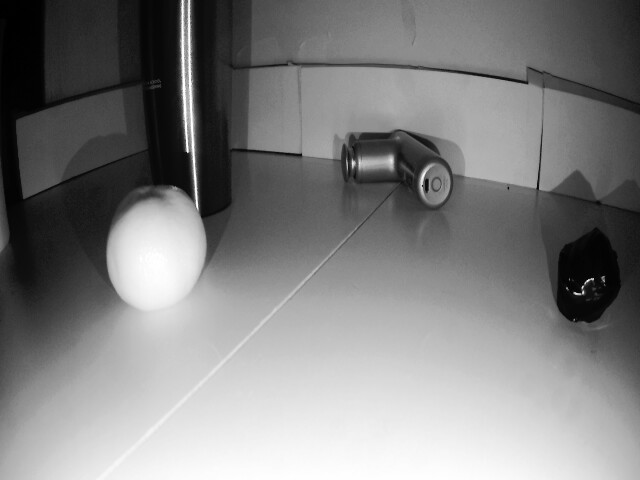black: (552, 231, 640, 330)
